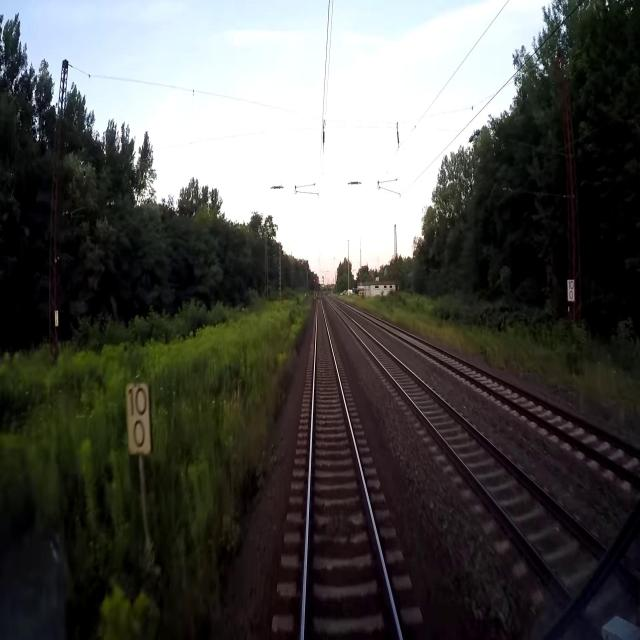rail-track: (337, 308, 599, 584), (383, 324, 640, 474), (305, 298, 398, 639)
